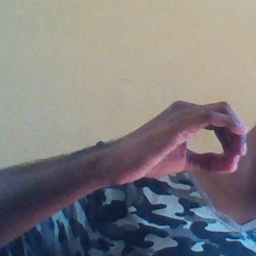O: (135, 94, 248, 183)
